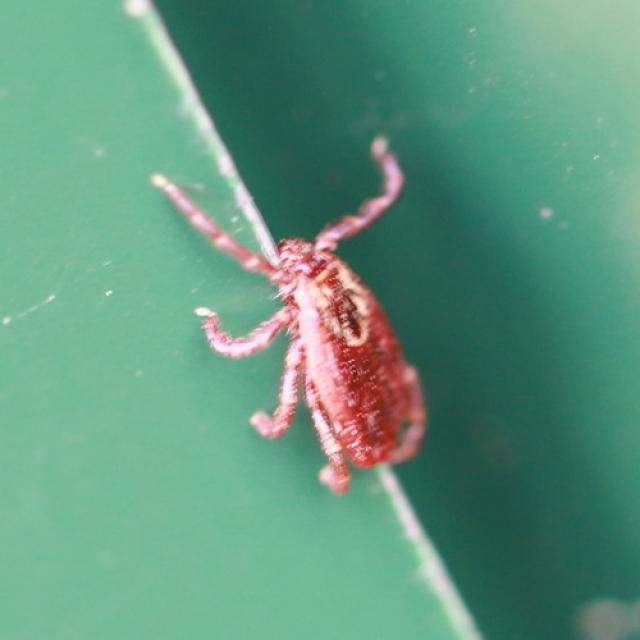Dermacentor Reticulatus-F: (159, 140, 428, 497)
